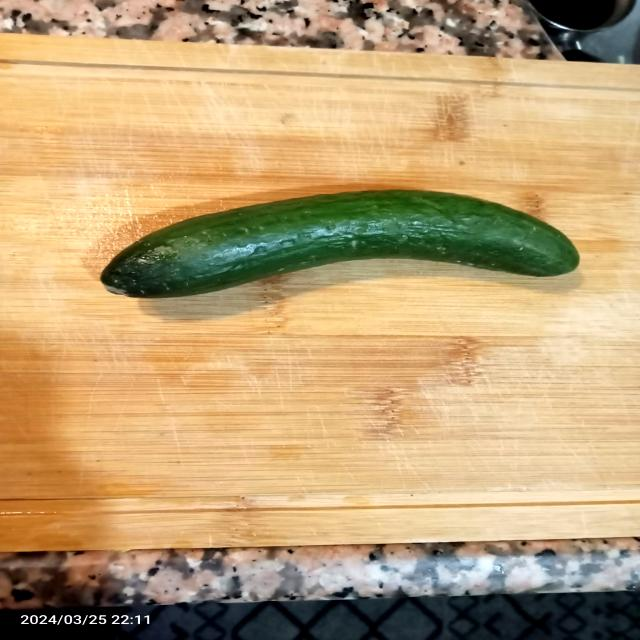cucumber: (84, 178, 598, 312)
